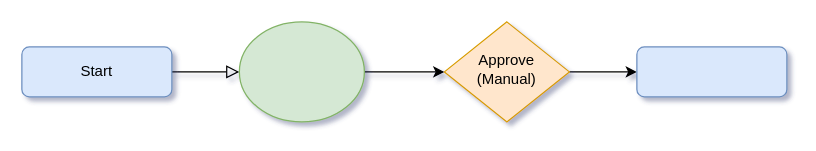
This 816x151 diagram has some shape labels left out. The shapes that lost their labels are listed below. From the top down, each one's centre as x and y in pixels, then its label:
the point at 301,71: Predict (Automated)
the point at 711,71: End
